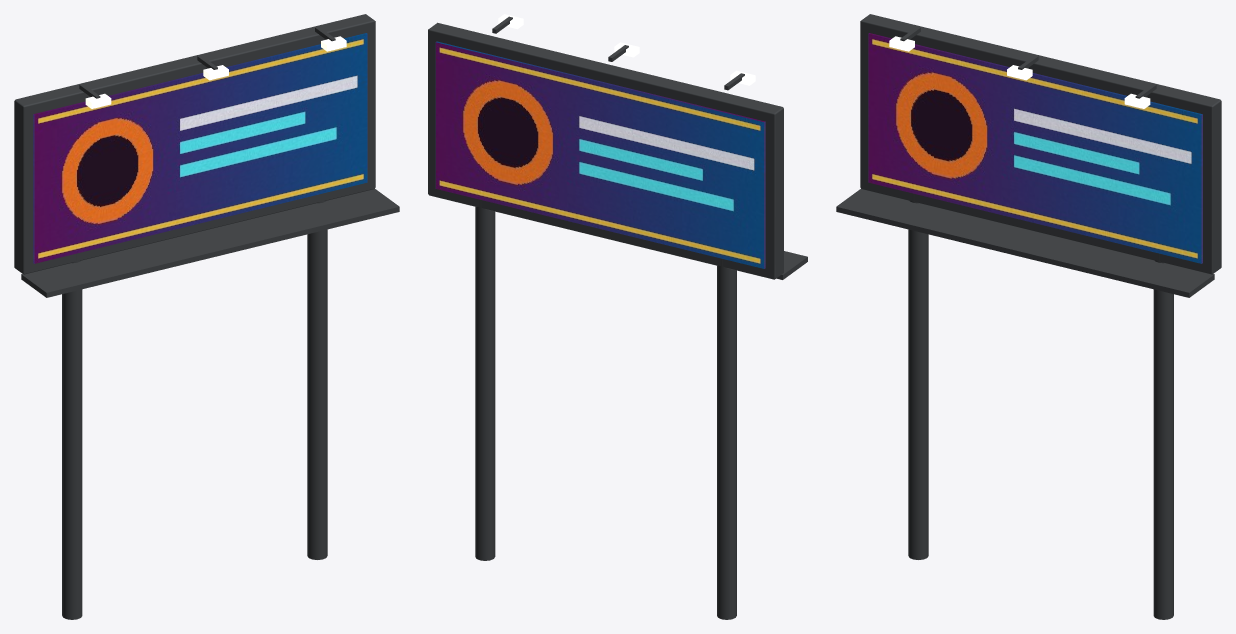
Rendered from sign.glb.
3 renders of one model, left to right at view 1: azimuth 30°, elevation 25°; view 2: azimuth 150°, elevation 25°; view 3: azimuth 330°, elevation 25°, orthographic.
Visible parts, largest first — view 1: Sign_Intact; view 2: Sign_Intact; view 3: Sign_Intact.
Boxes of the visible parts, x1=… form: Sign_Intact: x1=14, y1=14, x2=399, y2=619; Sign_Intact: x1=428, y1=14, x2=807, y2=619; Sign_Intact: x1=836, y1=14, x2=1221, y2=619.
Bounding box in the file's own units: 7.2 × 10.39 × 1.21.
3 materials, 1 textured.
